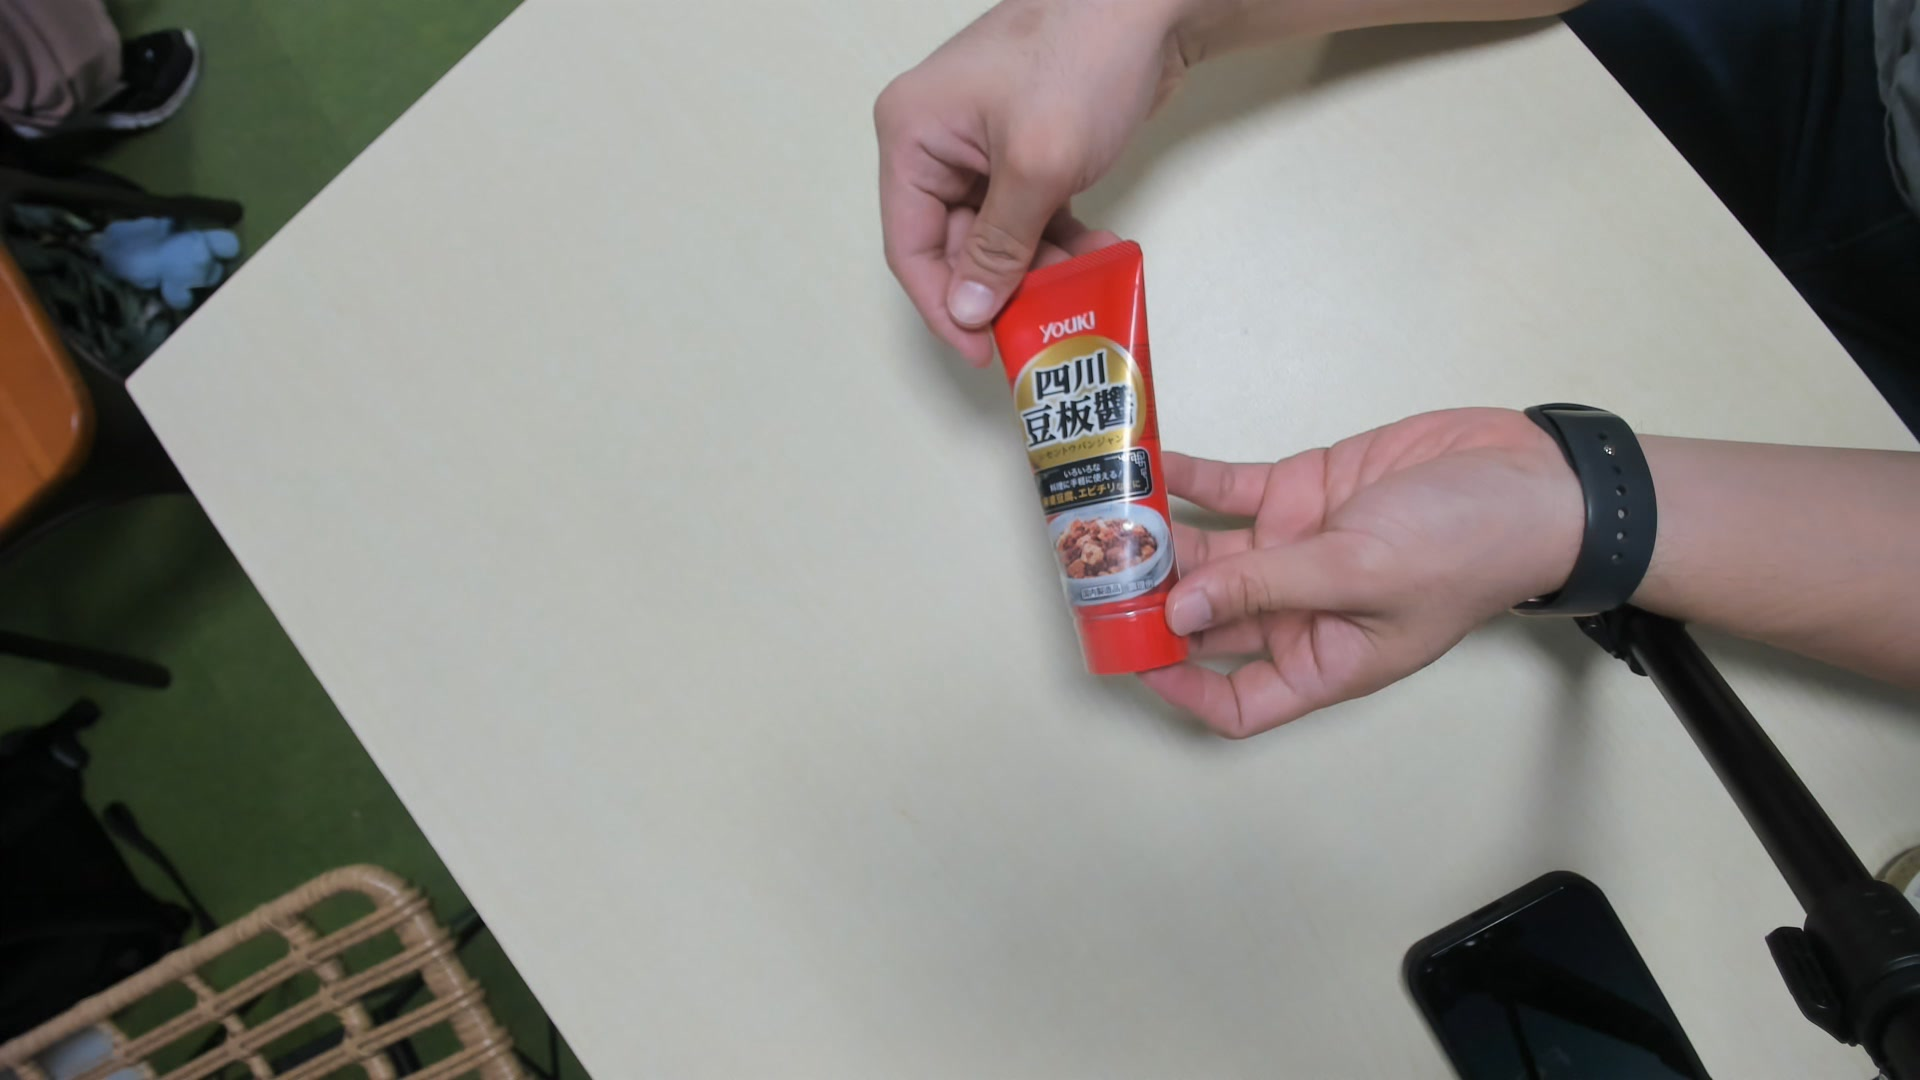OtherSauceDressing_100-199g_NonHalal_NonHealthy: (994, 244, 1185, 680)
